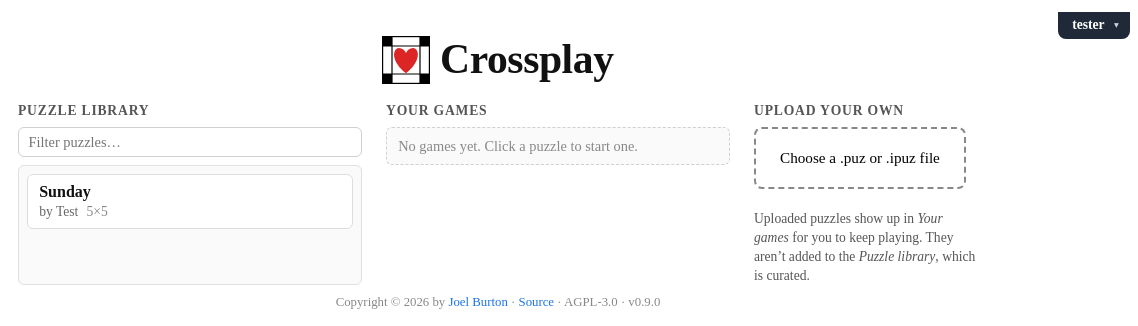
Test case: HomePage › shows 'no puzzles match' when the puzzle filter has zero hits
Type "xxxx" into the search field named "Filter puzzle library" at (190, 142), box x1=18 y1=127 x2=362 y2=157
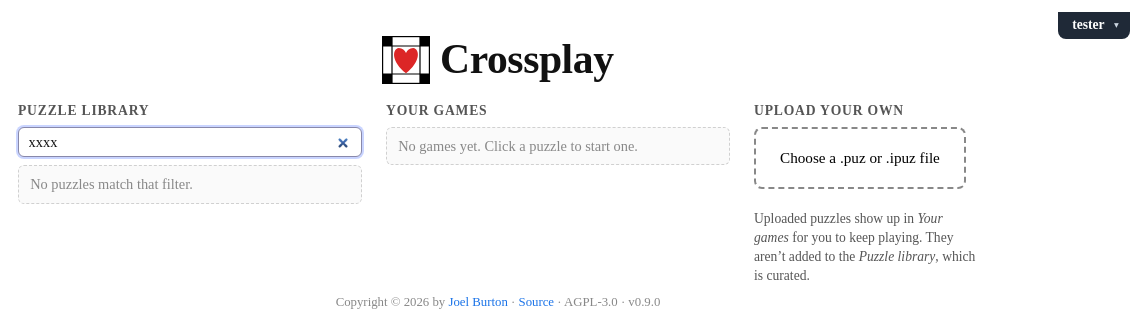
Check: the text "No puzzles match that filter." is shown, box x1=18 y1=165 x2=362 y2=204
Check: the button "Sunday" is gone
